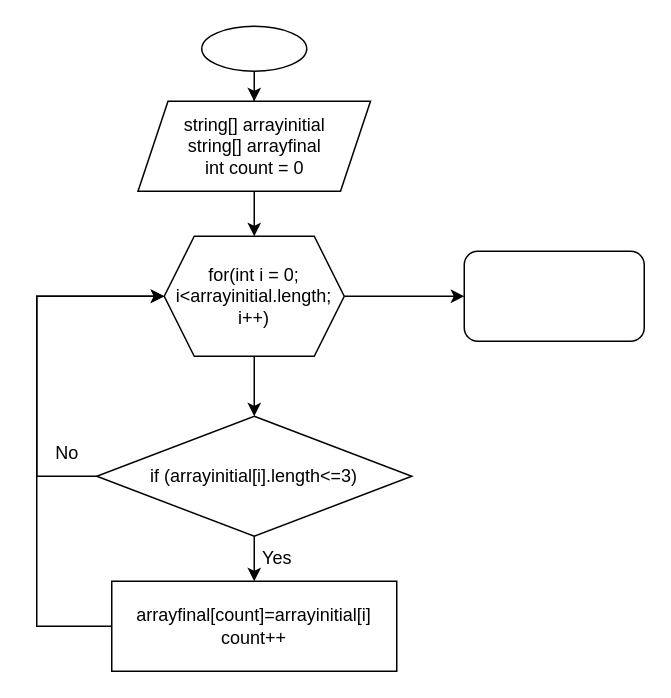
Some shapes in this 671 by 698 pixel diagram are drawn without their labels. Here are the shapes that lost their labels. From the top down, the box of each, then its label:
(200, 25, 307, 71): Start
(463, 250, 644, 341): Output : arrayfinal
